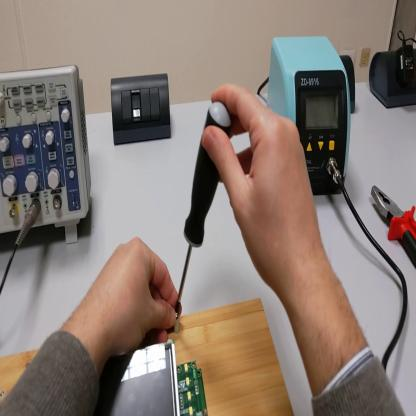hand: (202, 82, 323, 293), (83, 238, 182, 359)
low voltage board: (101, 346, 208, 414)
oscilloscope: (1, 65, 91, 244)
pliers: (372, 184, 416, 271)
screwdriver-: (176, 105, 234, 315)
socket: (369, 47, 416, 109), (340, 53, 355, 114)
welder station: (270, 38, 349, 196)
working area: (1, 301, 295, 416)
